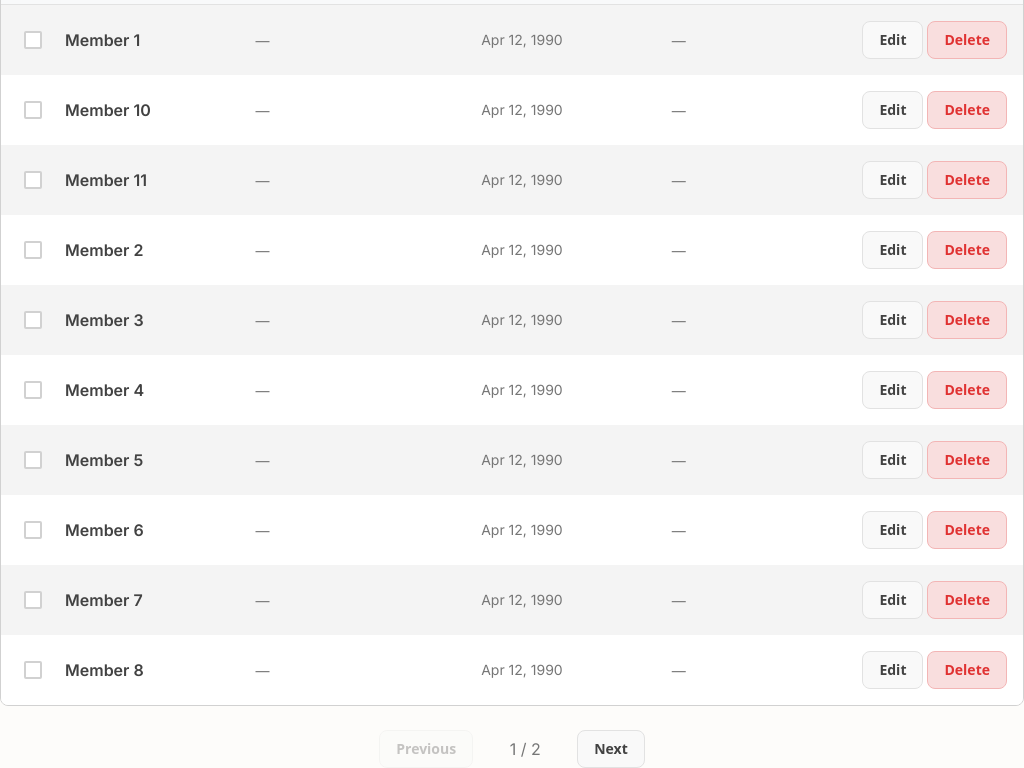
Test: Members add dialog validation › scrolls the member page into view when changing pages
This screenshot has width=1024, height=768.
(page scrolled)
Click the button "Next" at (611, 749), box [577,730,645,767]
(page scrolled)
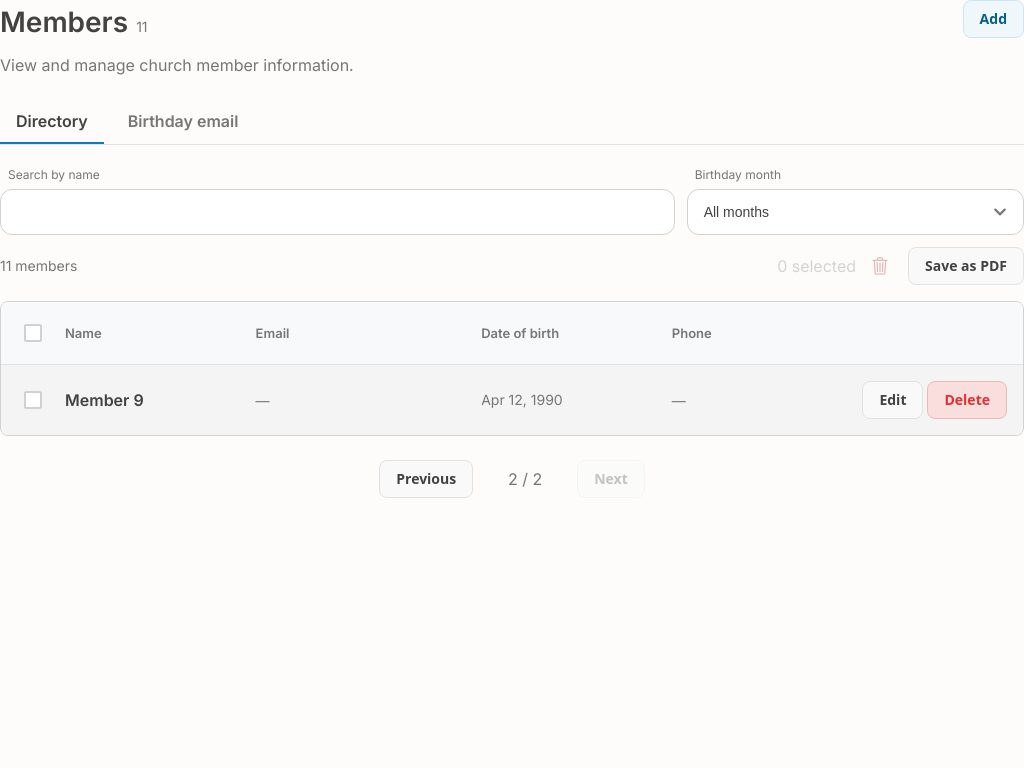
Result: the text "2 / 2" is shown at [508,469,542,489]
Click the button "Previous" at (426, 479), box [379,460,473,498]
(page scrolled)
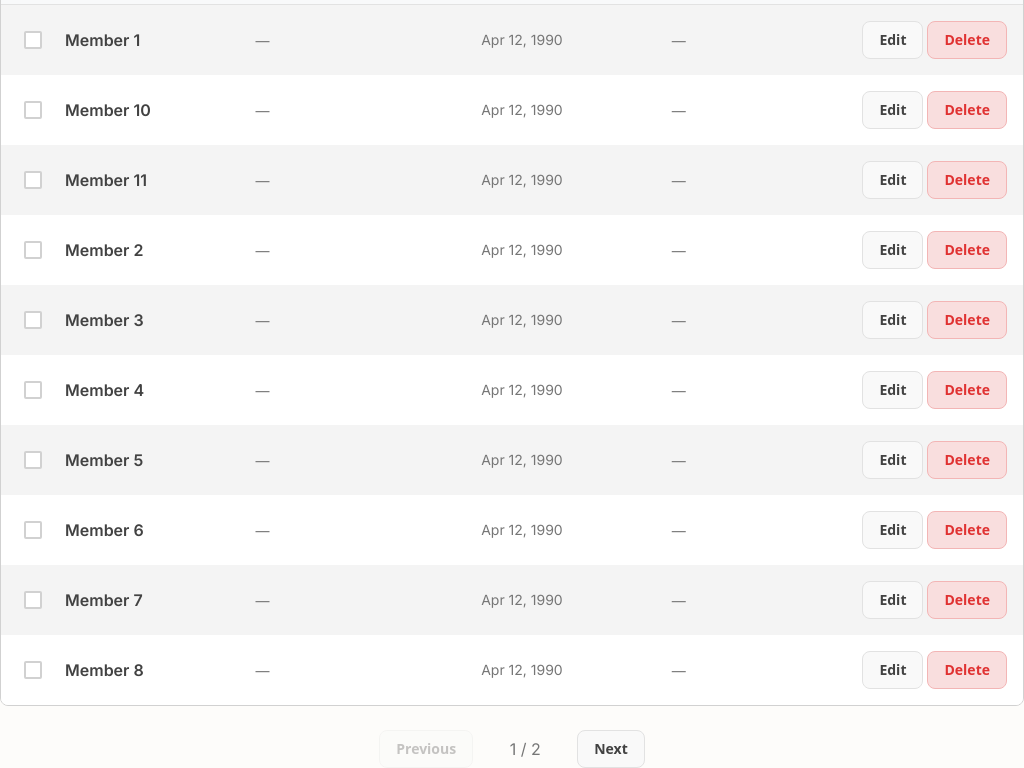
Result: the text "1 / 2" is shown at [510,739,541,759]
